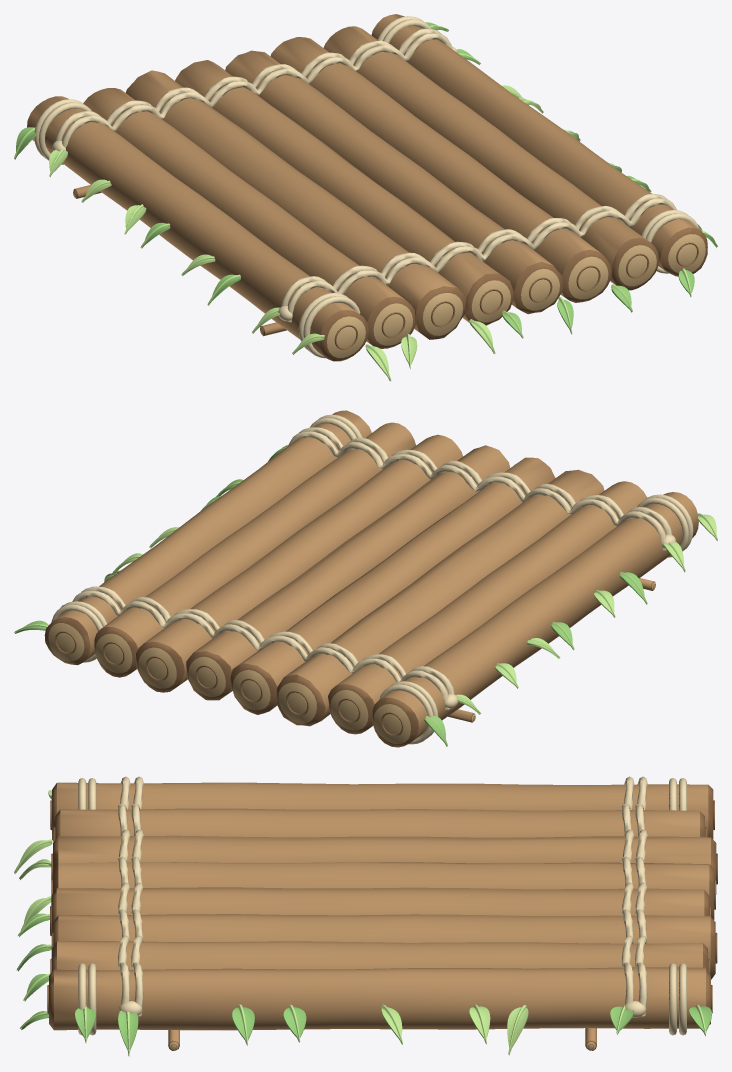
Rendered from G07_LogRaftMover.fbx.
The picture shows the model from 3 angles, top to bottom: view 1: azimuth 30°, elevation 25°; view 2: azimuth 150°, elevation 25°; view 3: azimuth 270°, elevation 25°; orthographic projection. The views are drawn at different scales.
Parts seen in each view (by area): view 1: GM_G07_LogRaft, GM_G07_Leaves; view 2: GM_G07_LogRaft, GM_G07_Leaves; view 3: GM_G07_LogRaft, GM_G07_Leaves.
Part boxes in pixels (x1,y1,x2,y2): GM_G07_LogRaft: (27, 14, 707, 361); GM_G07_Leaves: (14, 22, 717, 381); GM_G07_LogRaft: (44, 410, 698, 747); GM_G07_Leaves: (14, 445, 717, 746); GM_G07_LogRaft: (47, 776, 717, 1050); GM_G07_Leaves: (14, 790, 711, 1056).
Bounding box in the file's own units: 347 × 53.16 × 422.
